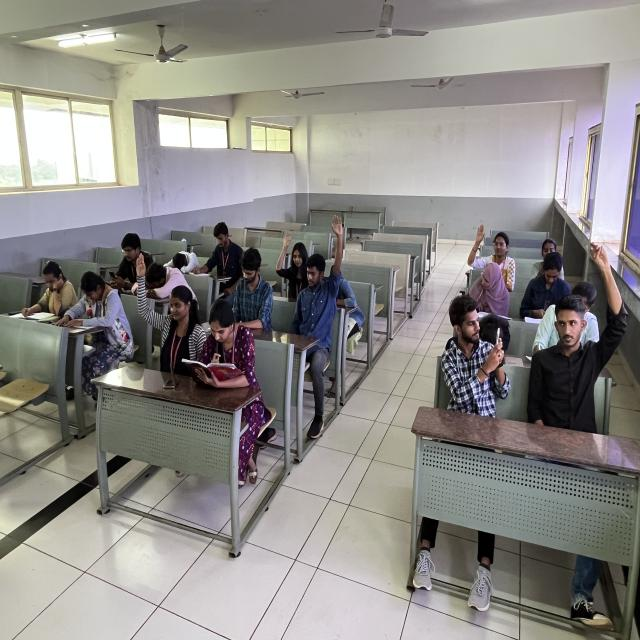Hand Rising: (531, 243, 640, 419), (290, 217, 362, 365), (129, 254, 203, 379), (455, 218, 532, 293), (272, 226, 320, 299)
Reading: (189, 300, 274, 408), (9, 250, 82, 338), (69, 272, 132, 358)
Sleeping: (446, 291, 530, 370), (156, 231, 218, 279)
Using Phone: (430, 293, 526, 413), (92, 216, 162, 290), (520, 256, 582, 324)
Writing: (222, 257, 284, 337), (457, 260, 527, 323), (192, 228, 250, 288)
